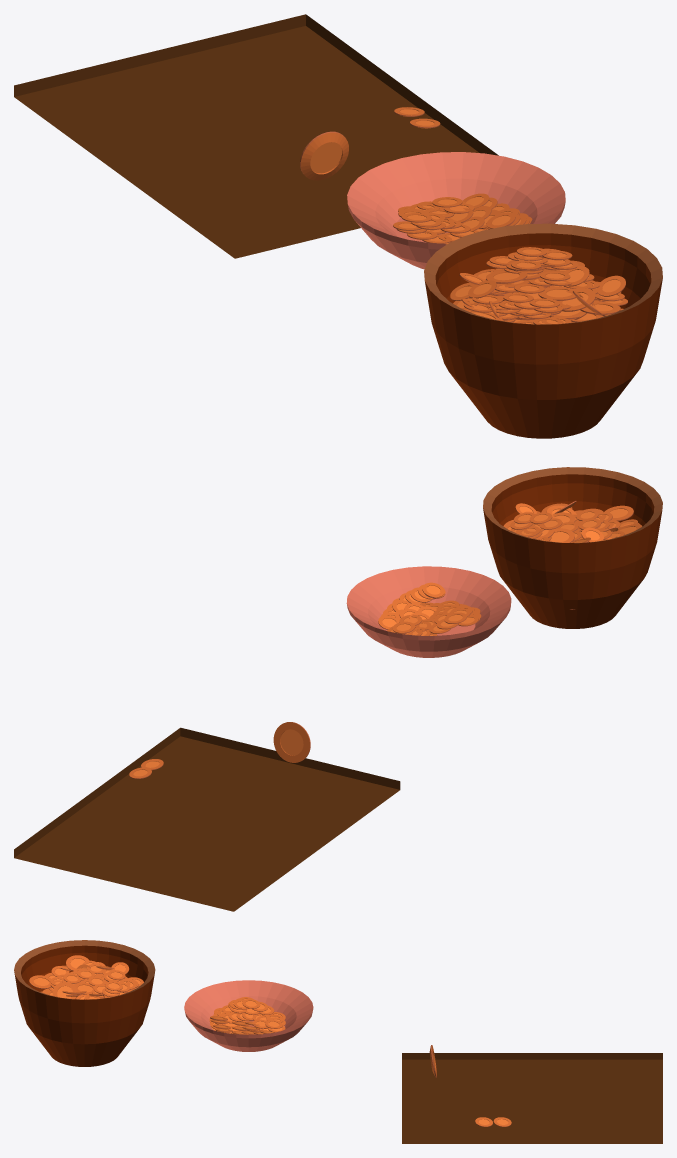
The model's file is snack wortel.fbx.
3 views of the same model, one above another, from view 1: azimuth 30°, elevation 25°; view 2: azimuth 150°, elevation 25°; view 3: azimuth 270°, elevation 25° (orthographic). The views are drawn at different scales.
Visible parts, largest first — view 1: Plane, Cylinder.007, Cylinder.006, Cylinder; view 2: Plane, Cylinder.007, Cylinder.006, Cylinder; view 3: Plane, Cylinder.007, Cylinder.006, Cylinder.131.
Part boxes in pixels (<box>): Plane: <box>14,14,498,258</box>; Cylinder.007: <box>424,223,662,438</box>; Cylinder.006: <box>347,152,565,269</box>; Cylinder: <box>300,131,348,180</box>; Plane: <box>14,727,400,911</box>; Cylinder.007: <box>483,467,662,628</box>; Cylinder.006: <box>346,566,511,657</box>; Cylinder: <box>273,722,310,762</box>; Plane: <box>402,1053,662,1143</box>; Cylinder.007: <box>14,940,155,1066</box>; Cylinder.006: <box>184,980,313,1051</box>; Cylinder.131: <box>52,981,77,999</box>.
Bounding box in the file's own units: 641 × 298 × 1715.
